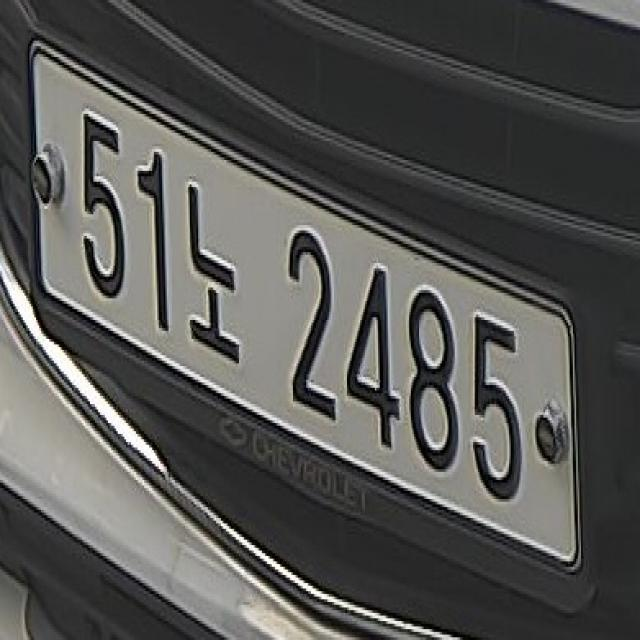1: (134, 140, 172, 340)
2: (281, 224, 339, 426)
4: (348, 258, 400, 458)
5: (70, 106, 128, 312), (468, 300, 524, 512)
8: (406, 278, 460, 488)
license_plate: (27, 21, 580, 585)
no: (183, 180, 244, 369)
